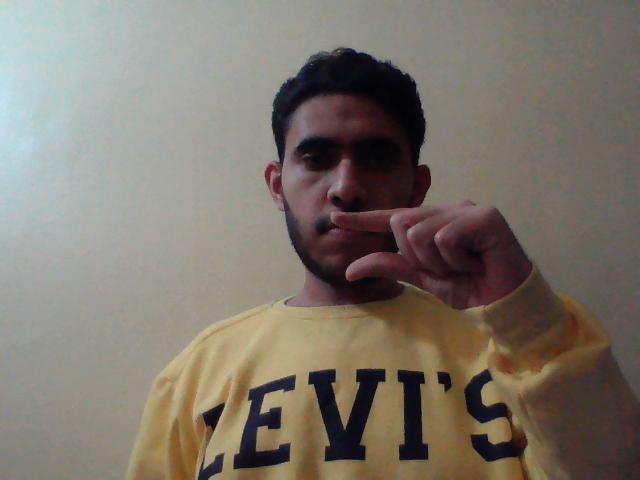G: (323, 197, 547, 326)
